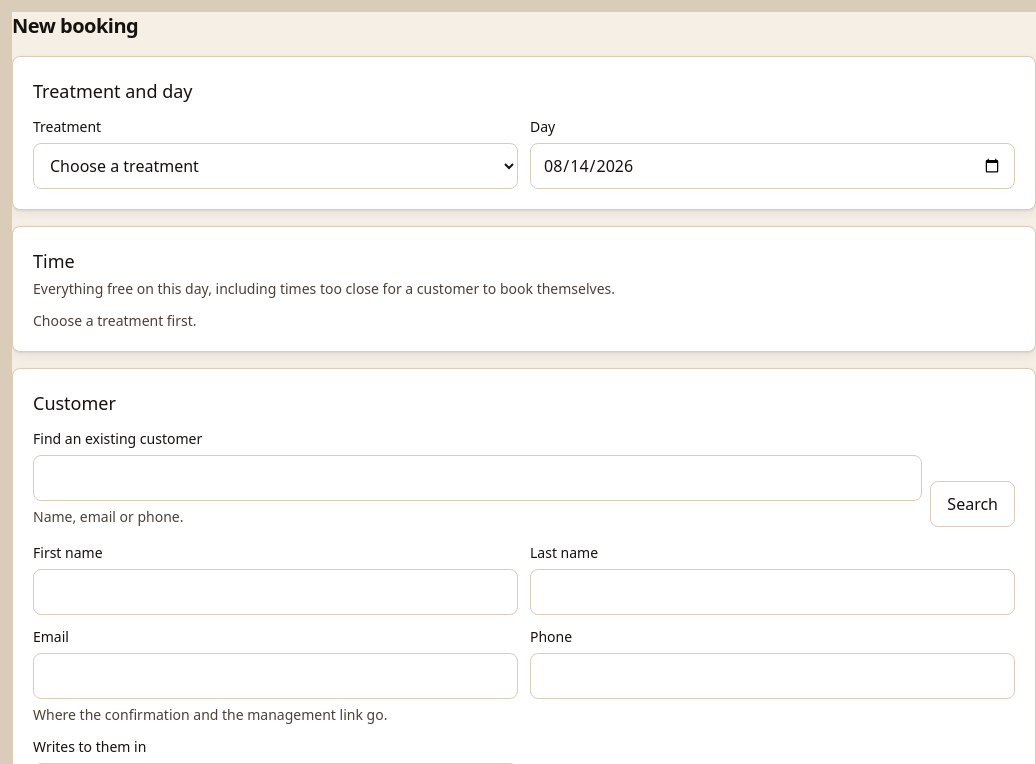
Test: NewBooking › narrows the people to whoever is free at the chosen time
The width and height of the screenshot is (1036, 764).
Select "Facial Massage 30 · 30 min · 45,00 €" in the dropdown with test id "service": [276, 166] box [33,143,518,189]
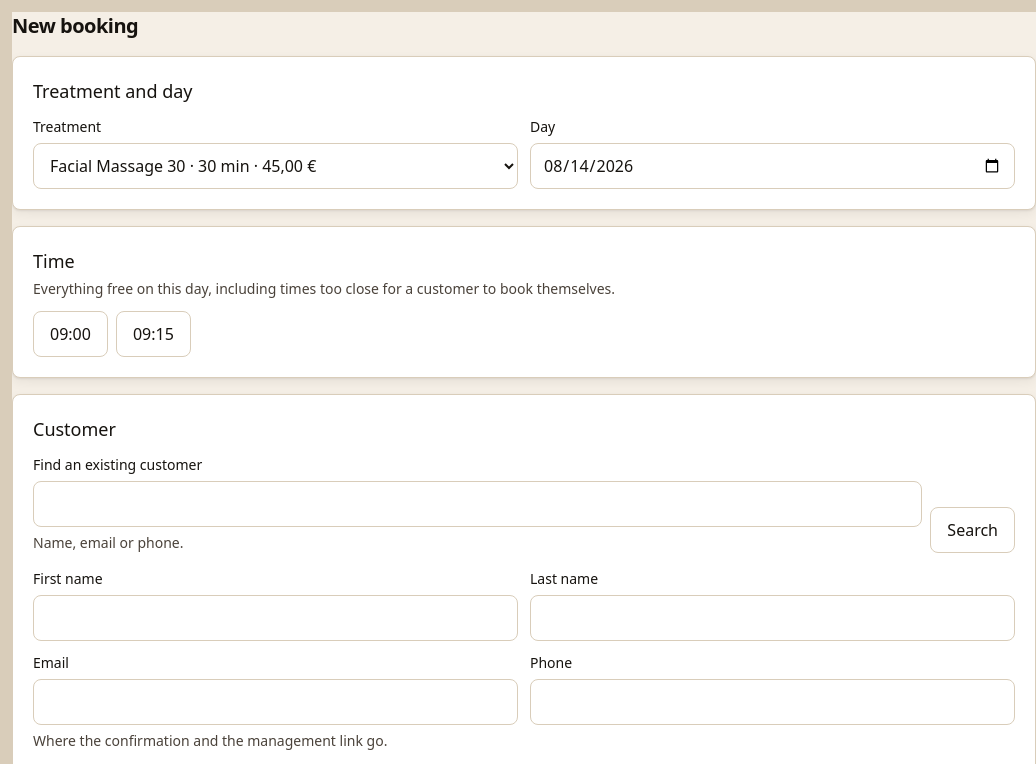
Click the button "09:15": [153, 334] box [116,311,191,357]
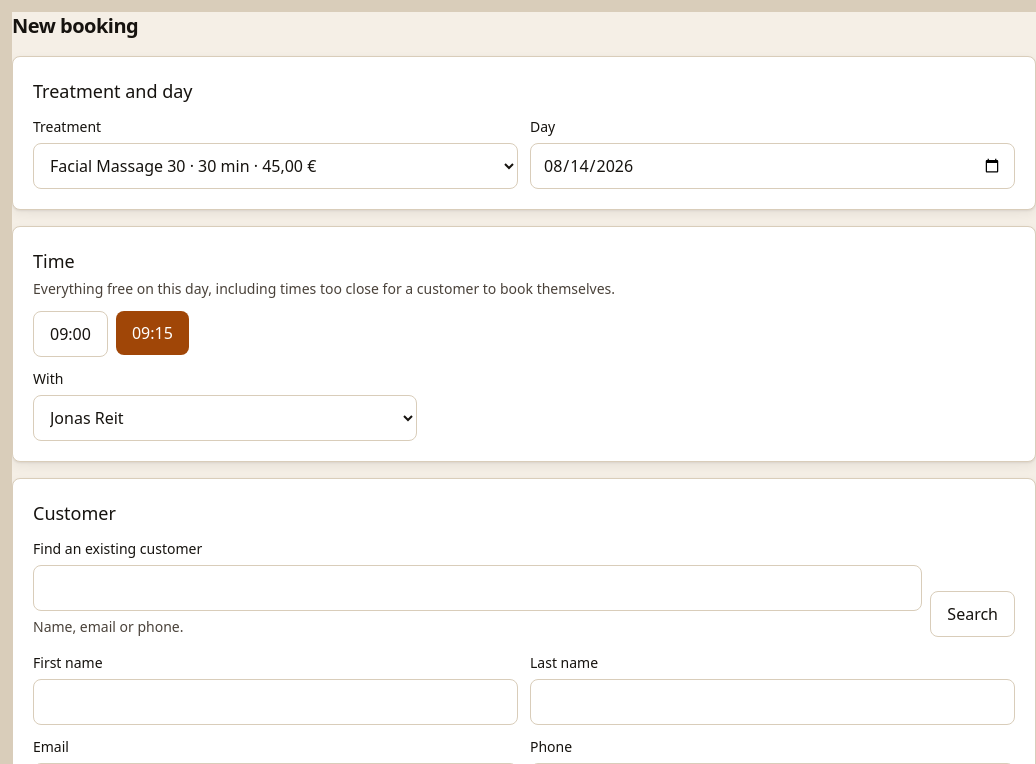
Result: the dropdown with test id "employee" shows "Jonas Reit" at [33,395,417,441]
